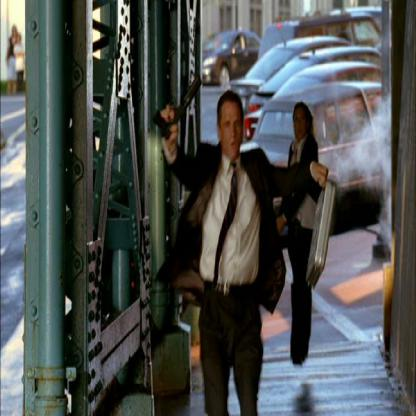Gun: (150, 72, 206, 141)
